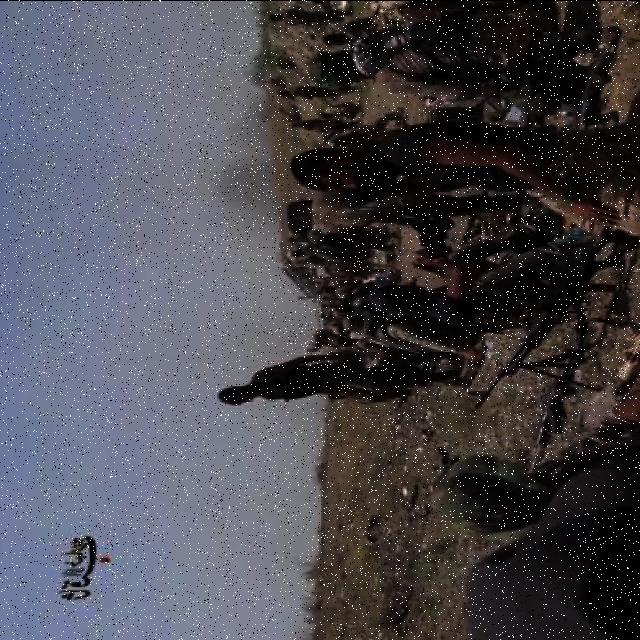Rifle: (467, 229, 624, 414)
